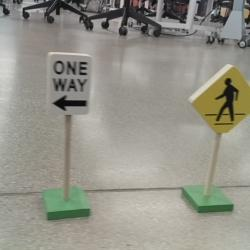one_way: (47, 52, 91, 115)
pedestrian_crossing: (189, 64, 250, 133)
